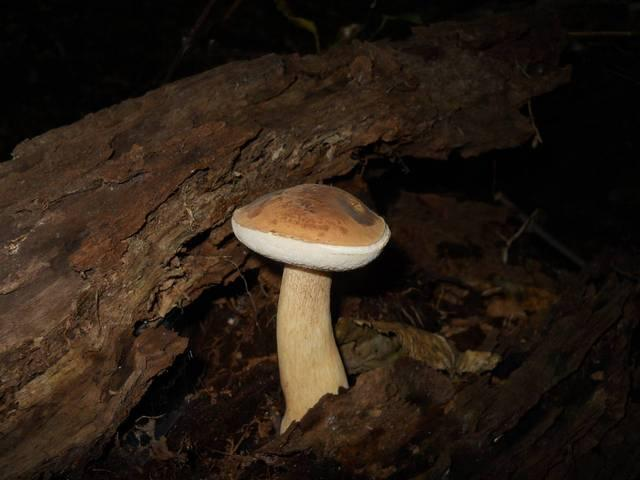Non-edible Mushroom: (229, 181, 391, 436)
